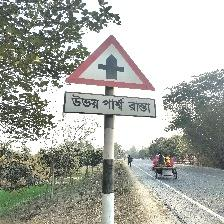Crossroad: (54, 29, 170, 117)
